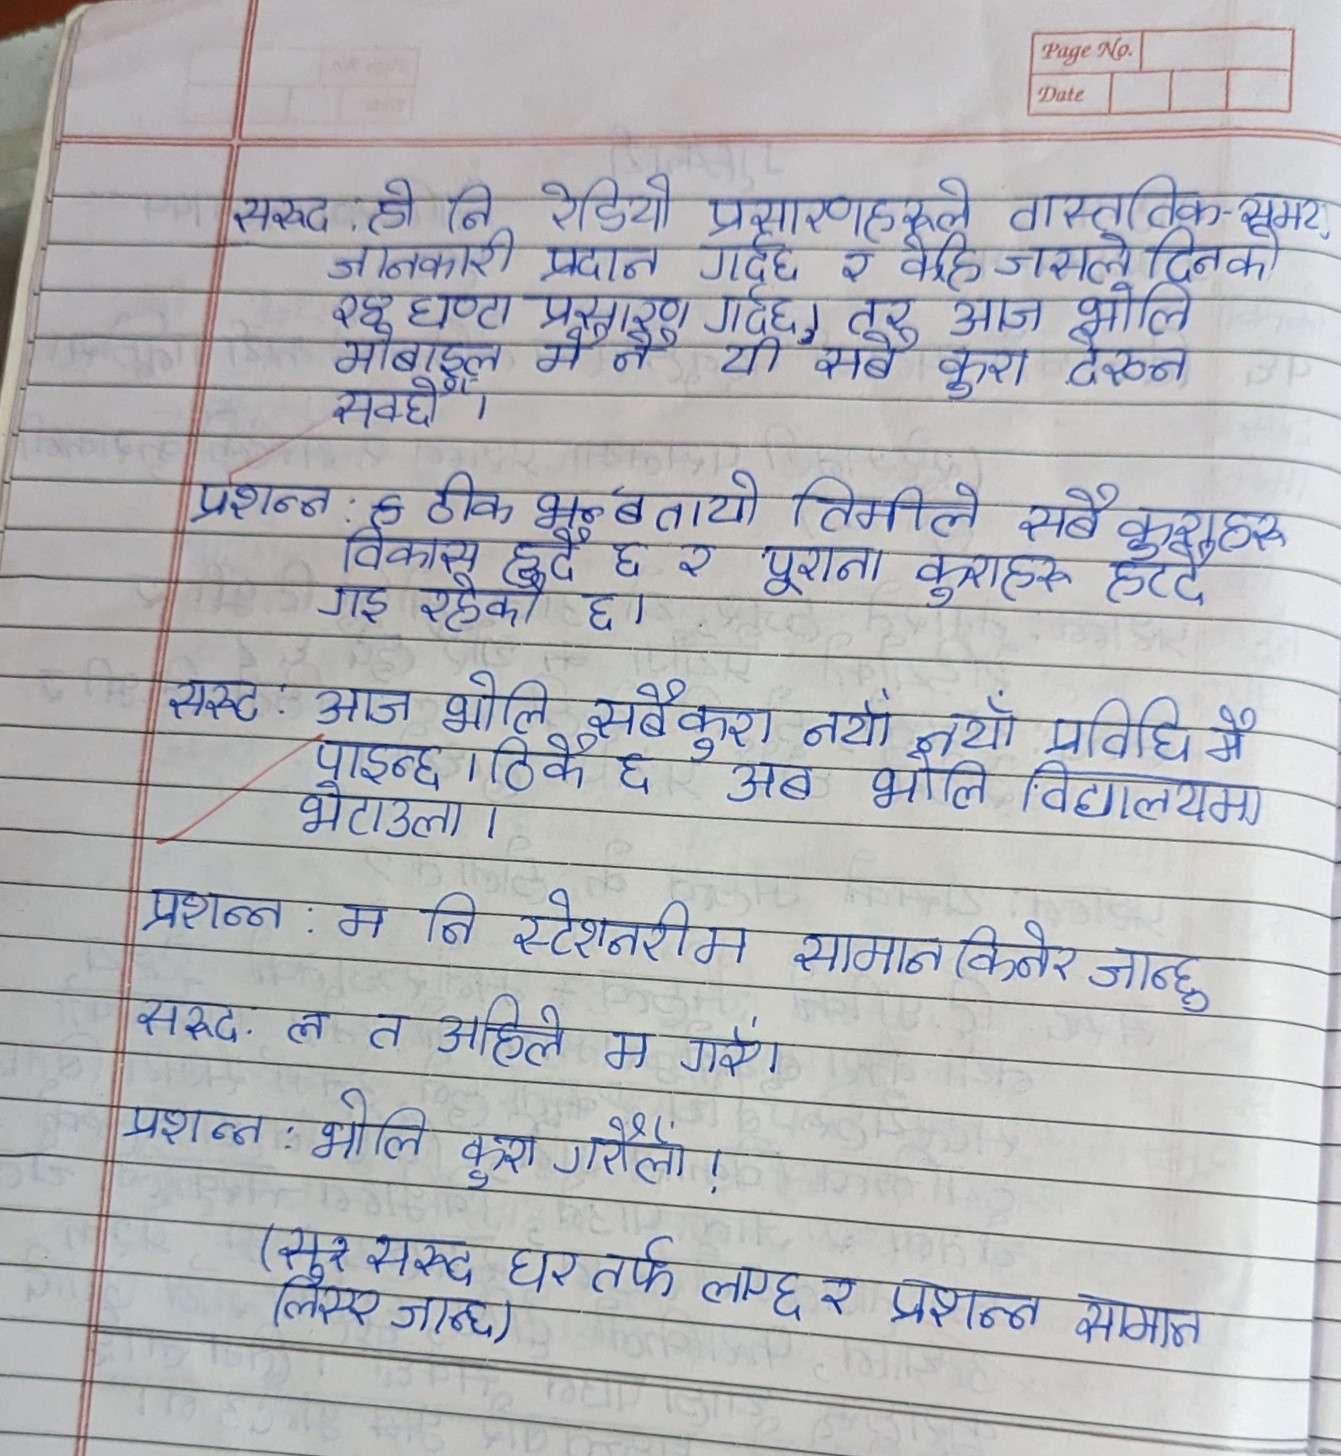text: (499, 883, 745, 965), (700, 164, 977, 236), (1015, 760, 1267, 838), (1071, 1270, 1215, 1371), (782, 473, 993, 536), (1000, 171, 1223, 230), (580, 680, 778, 743), (551, 1111, 702, 1193), (880, 1267, 1043, 1341), (287, 789, 471, 854), (598, 457, 761, 525), (1042, 687, 1193, 761), (433, 992, 565, 1074), (1089, 930, 1219, 1010), (310, 1087, 426, 1172), (920, 542, 1068, 608), (329, 375, 486, 438), (331, 230, 518, 279), (1116, 498, 1292, 550), (299, 728, 452, 788), (789, 925, 941, 984), (145, 878, 280, 944), (129, 988, 252, 1060), (118, 1093, 269, 1152), (525, 172, 677, 230), (192, 465, 330, 528), (957, 917, 1075, 989), (1059, 328, 1196, 391), (157, 665, 279, 732), (420, 575, 553, 635), (700, 1251, 801, 1329), (1102, 550, 1228, 613), (868, 753, 993, 816), (754, 542, 883, 601), (389, 1281, 501, 1349), (485, 732, 603, 796), (913, 685, 1021, 753), (271, 1278, 383, 1344), (527, 284, 691, 328), (590, 1226, 679, 1308), (330, 332, 501, 374), (993, 231, 1134, 282), (1064, 282, 1199, 334), (1149, 230, 1279, 283), (362, 1226, 477, 1286), (226, 178, 332, 240), (681, 1008, 771, 1081), (442, 667, 551, 727), (934, 337, 1031, 403), (410, 465, 518, 525), (335, 526, 483, 569), (455, 1124, 540, 1199), (1015, 479, 1111, 544), (795, 690, 898, 750), (535, 236, 661, 279), (598, 1004, 672, 1076), (813, 328, 915, 380), (299, 680, 410, 727), (407, 284, 513, 332), (618, 743, 693, 810), (1240, 181, 1336, 233), (705, 283, 801, 335), (694, 235, 802, 280), (896, 230, 982, 285), (500, 528, 589, 578), (419, 889, 488, 952), (502, 1238, 579, 1294), (1201, 698, 1272, 757), (284, 999, 348, 1065), (724, 755, 809, 803), (365, 162, 422, 233), (318, 577, 403, 624), (945, 290, 1040, 332), (672, 529, 733, 590), (571, 583, 636, 638), (528, 328, 605, 372), (442, 169, 497, 228), (332, 889, 391, 944), (722, 336, 787, 384), (612, 327, 681, 372), (847, 290, 919, 332), (812, 1267, 858, 1327), (359, 1002, 414, 1051), (329, 287, 395, 327), (606, 531, 657, 580), (836, 238, 882, 287)
